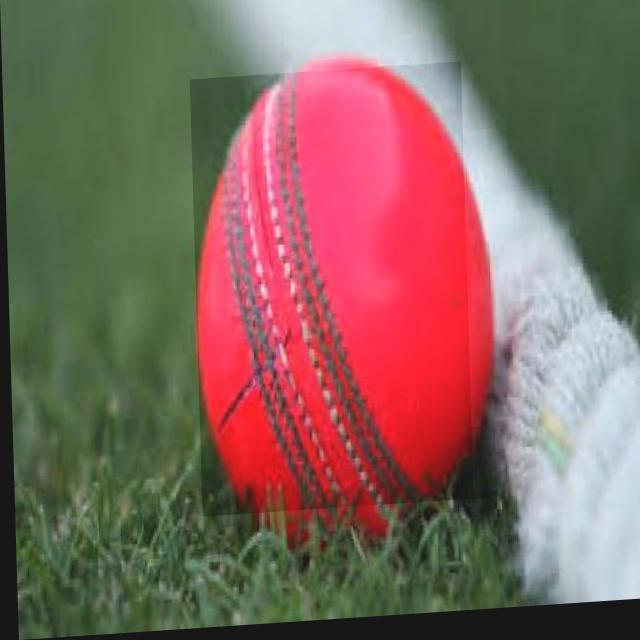-: (189, 68, 470, 519)
